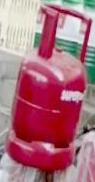cylinder: (1, 1, 95, 182)
